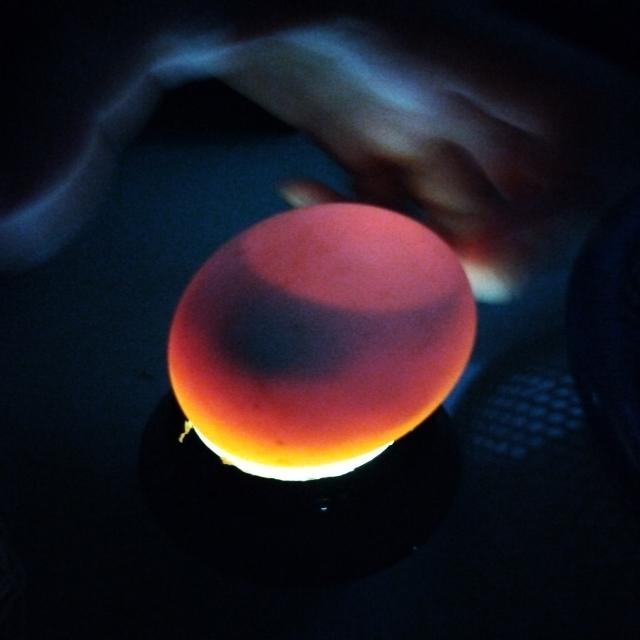Area Infectada: (182, 232, 469, 390)
